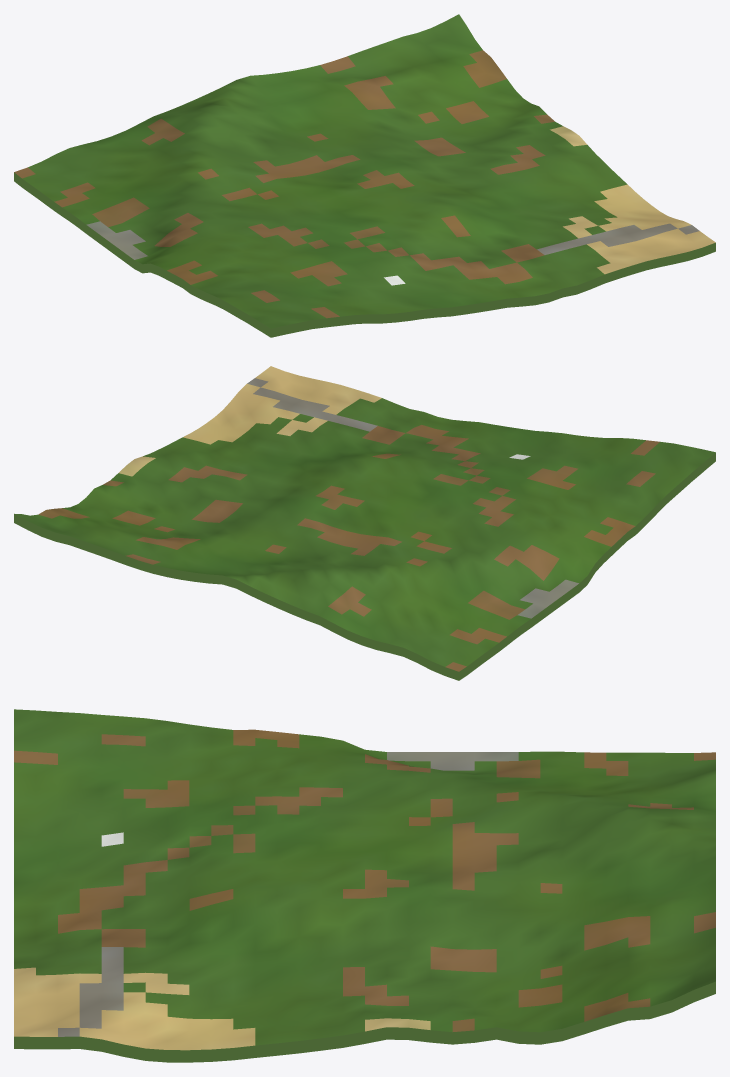
Rendered from chunk_4_4_lod1.glb.
The picture shows the model from 3 angles, top to bottom: view 1: azimuth 30°, elevation 25°; view 2: azimuth 150°, elevation 25°; view 3: azimuth 270°, elevation 25°; orthographic projection. The views are drawn at different scales.
Parts seen in each view (by area): view 1: Surface_Grass, Surface_Dirt, Skirt, Surface_Sand, Surface_Gravel; view 2: Surface_Grass, Surface_Dirt, Skirt, Surface_Sand, Surface_Gravel; view 3: Surface_Grass, Surface_Dirt, Surface_Sand, Skirt, Surface_Gravel.
Boxes of the visible parts, left/top/right/bottom form: Surface_Grass: left=22, top=14, right=627, bottom=328; Surface_Dirt: left=14, top=50, right=554, bottom=318; Skirt: left=14, top=172, right=715, bottom=337; Surface_Sand: left=550, top=126, right=715, bottom=274; Surface_Gravel: left=86, top=221, right=699, bottom=259; Surface_Grass: left=14, top=398, right=715, bottom=666; Surface_Dirt: left=38, top=425, right=659, bottom=671; Skirt: left=14, top=452, right=715, bottom=680; Surface_Sand: left=119, top=366, right=381, bottom=476; Surface_Gravel: left=247, top=378, right=578, bottom=618; Surface_Grass: left=14, top=709, right=715, bottom=1045; Surface_Dirt: left=14, top=729, right=715, bottom=1031; Surface_Sand: left=14, top=967, right=430, bottom=1050; Skirt: left=14, top=981, right=715, bottom=1062; Surface_Gravel: left=58, top=752, right=518, bottom=1036.
Bounding box in the file's own units: 256 × 32.71 × 256.
